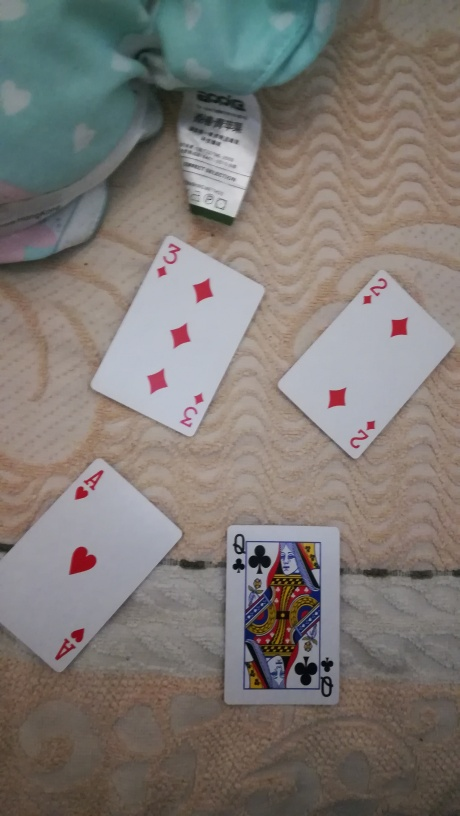fk 2: (277, 242, 458, 466)
fk 3: (87, 229, 267, 450)
hx a: (6, 456, 185, 674)
mh q: (224, 525, 342, 708)
